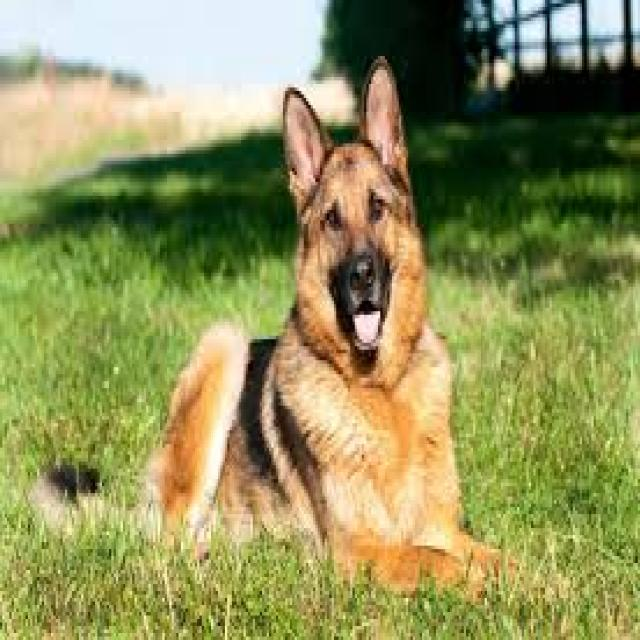GERMAN_SHEPHERD: (28, 57, 525, 610)
